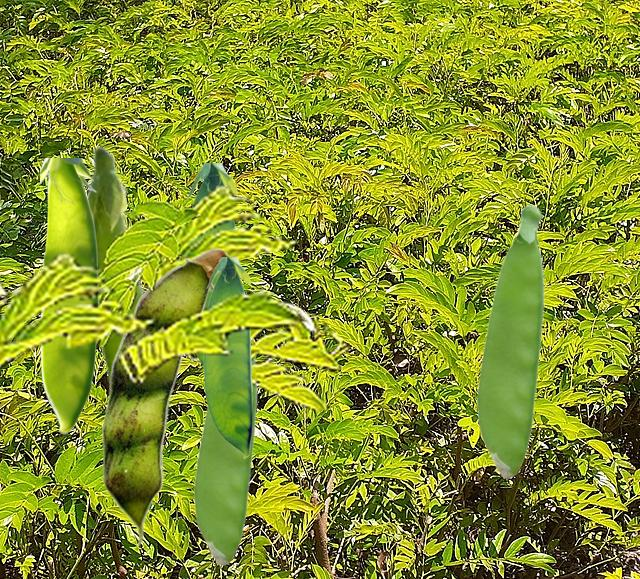pea: (102, 247, 229, 546), (476, 203, 544, 478), (40, 158, 98, 433), (86, 143, 145, 393), (193, 388, 257, 565), (186, 163, 238, 366), (203, 257, 251, 457)
